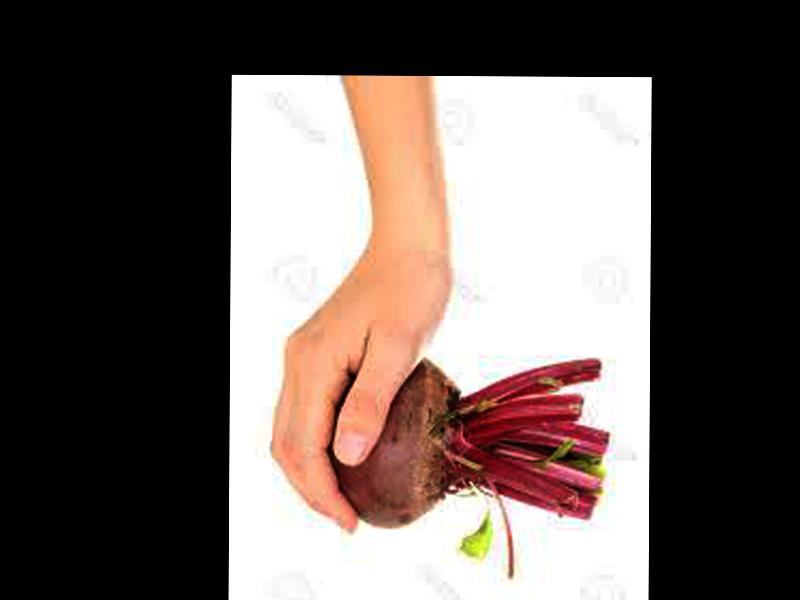Beet: (326, 358, 608, 580)
